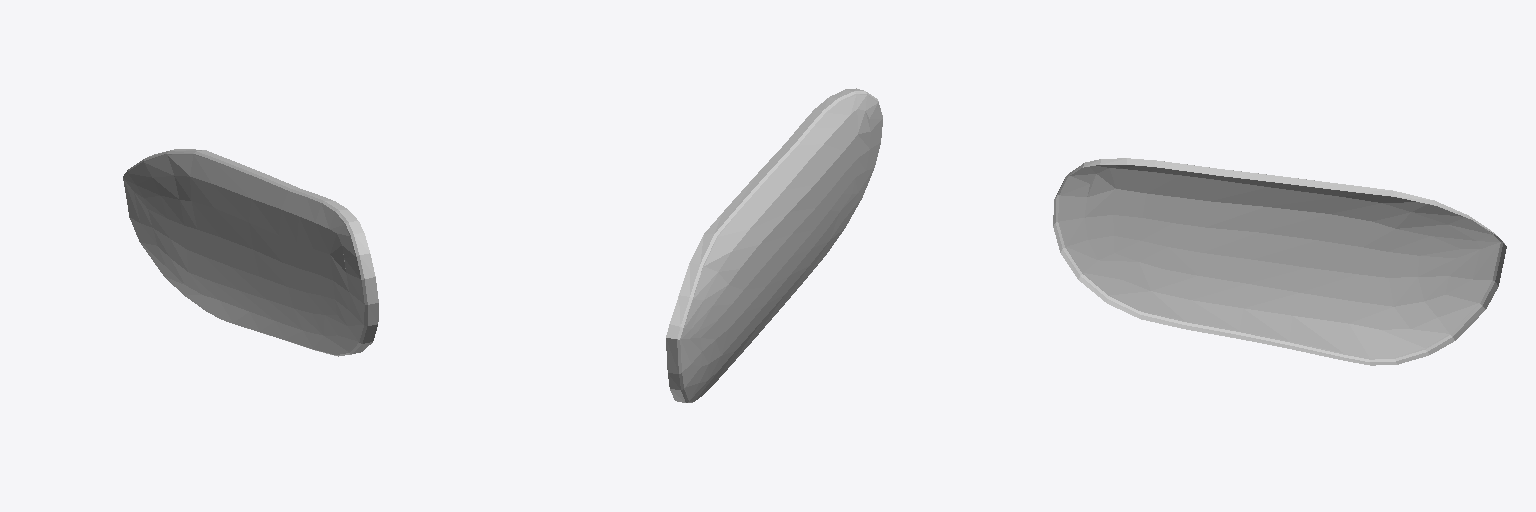
Rendered from vr_controller_05_wireless_b_Lgrip.obj.
3 renders of one model, left to right at view 1: azimuth 30°, elevation 25°; view 2: azimuth 150°, elevation 25°; view 3: azimuth 270°, elevation 25°, orthographic.
Parts seen in each view (by area): view 1: L_grip group1; view 2: L_grip group1; view 3: L_grip group1.
Boxes of the visible parts, <box> form: L_grip group1: <box>123,149,378,356</box>; L_grip group1: <box>666,88,882,402</box>; L_grip group1: <box>1053,158,1506,365</box>.
Bounding box in the file's own units: 0.0044 × 0.0186 × 0.038.